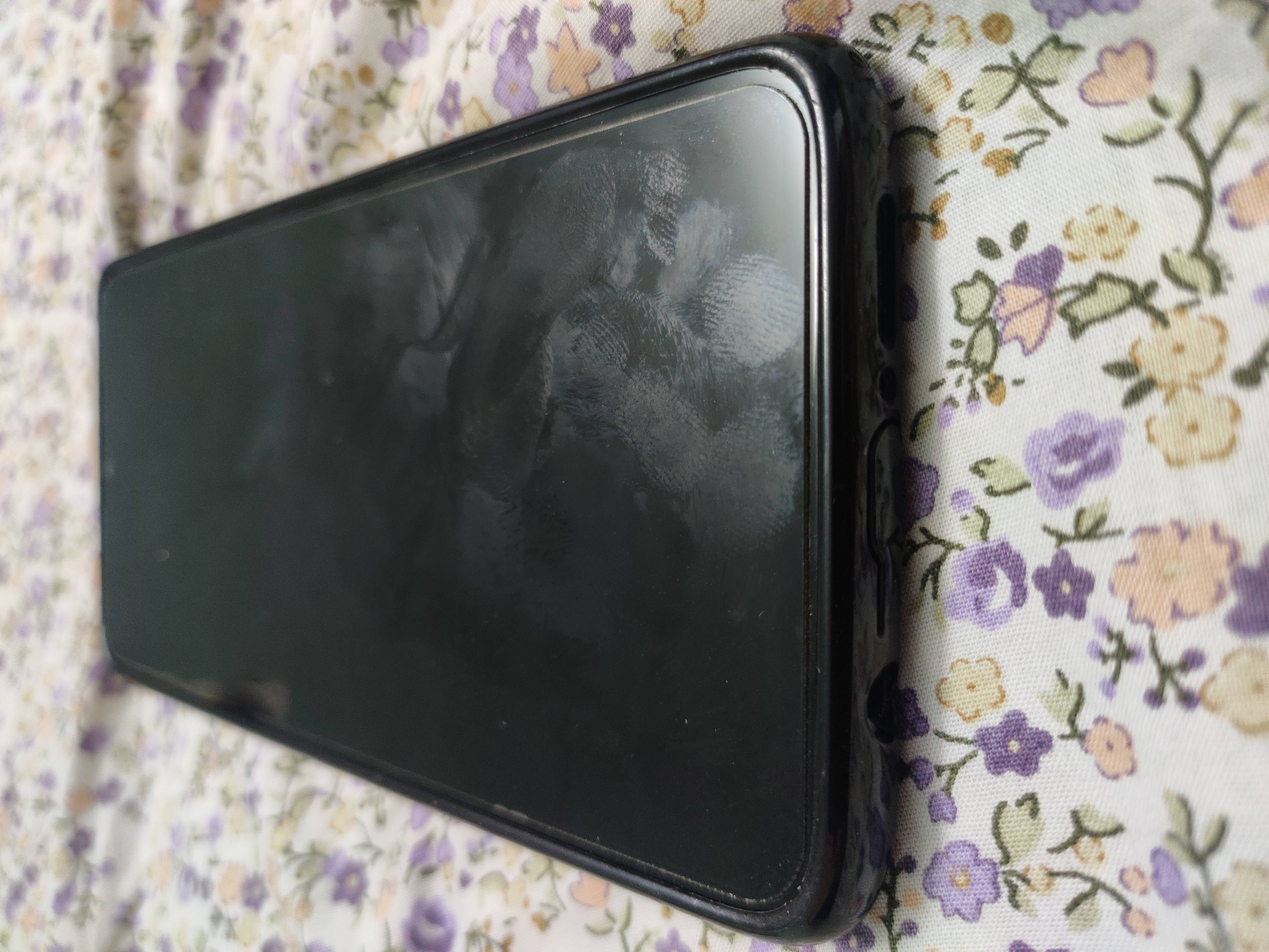Electronics: (84, 19, 924, 949)
